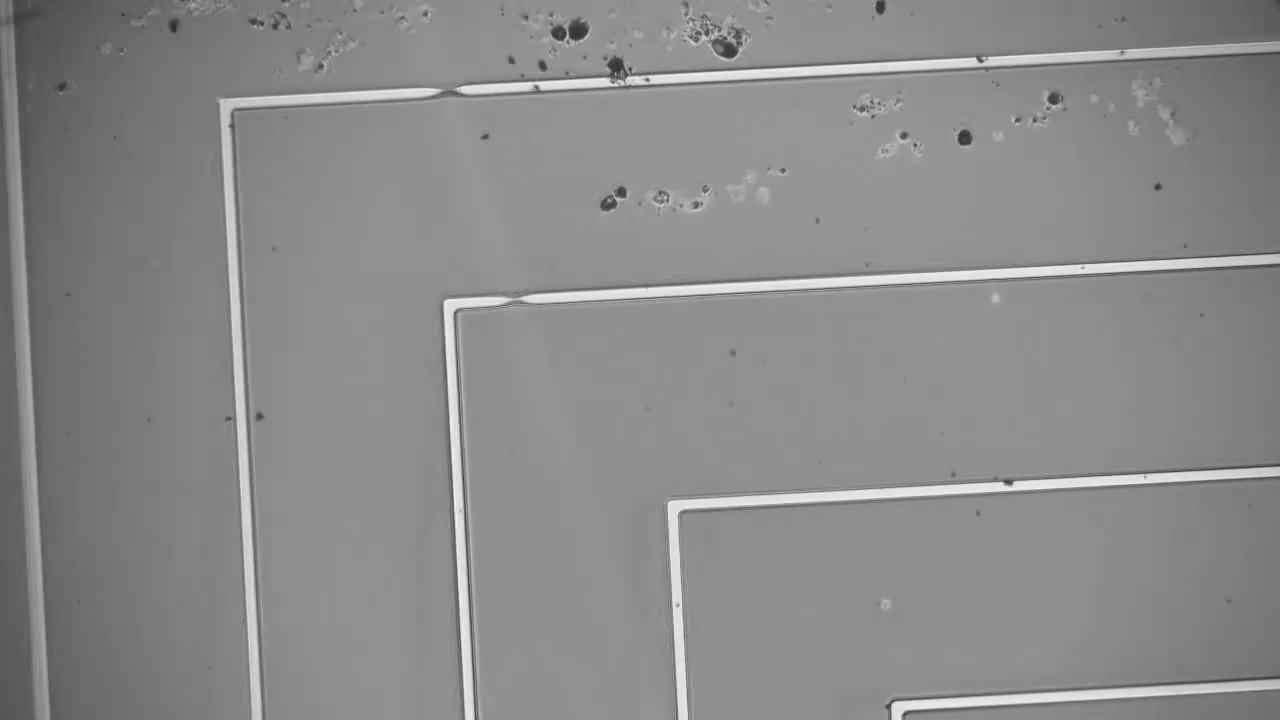edge_bite: (420, 73, 470, 106), (495, 283, 543, 312)
stains_enbedded: (993, 471, 1026, 497)
